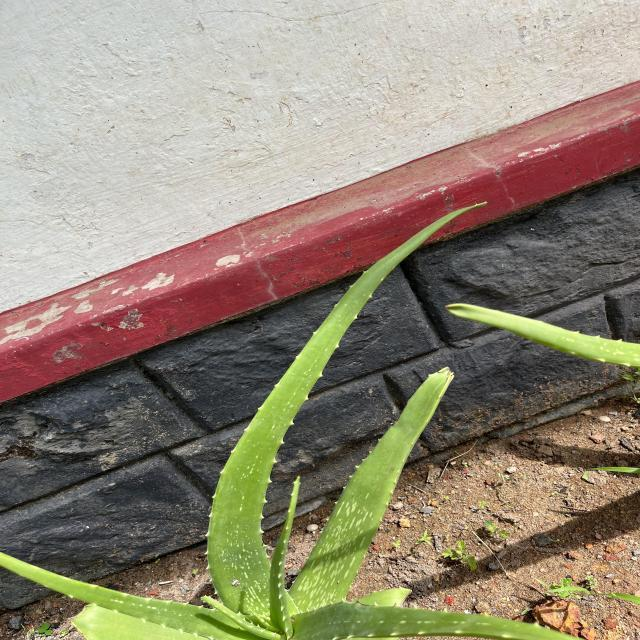Aloe vera: (292, 368, 454, 606)
